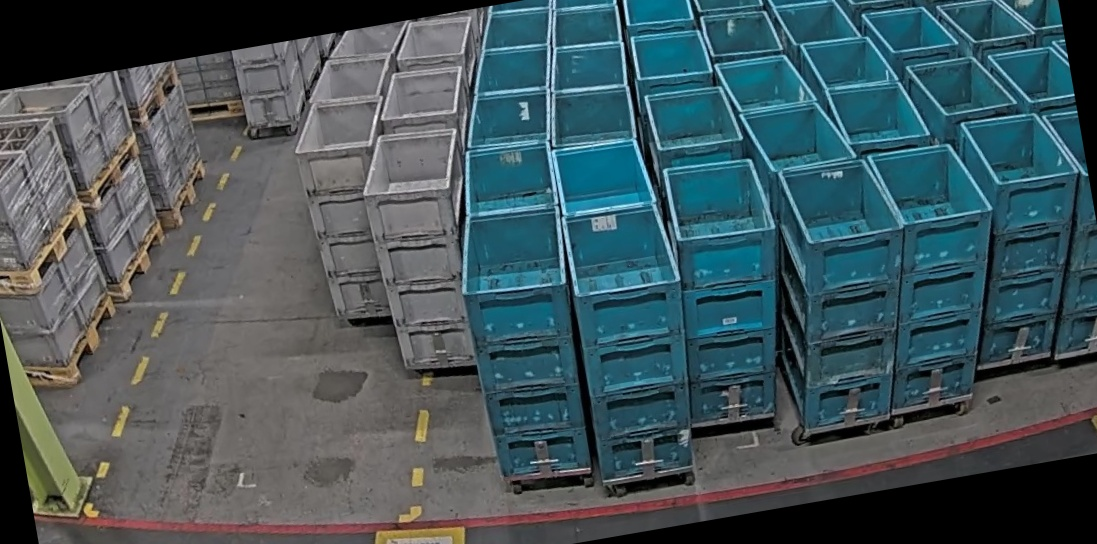4G: (354, 121, 498, 380), (285, 88, 421, 327)
B4: (749, 151, 936, 431), (847, 135, 1023, 410), (648, 151, 809, 430), (449, 200, 606, 486), (556, 198, 713, 482), (936, 102, 1097, 368)
